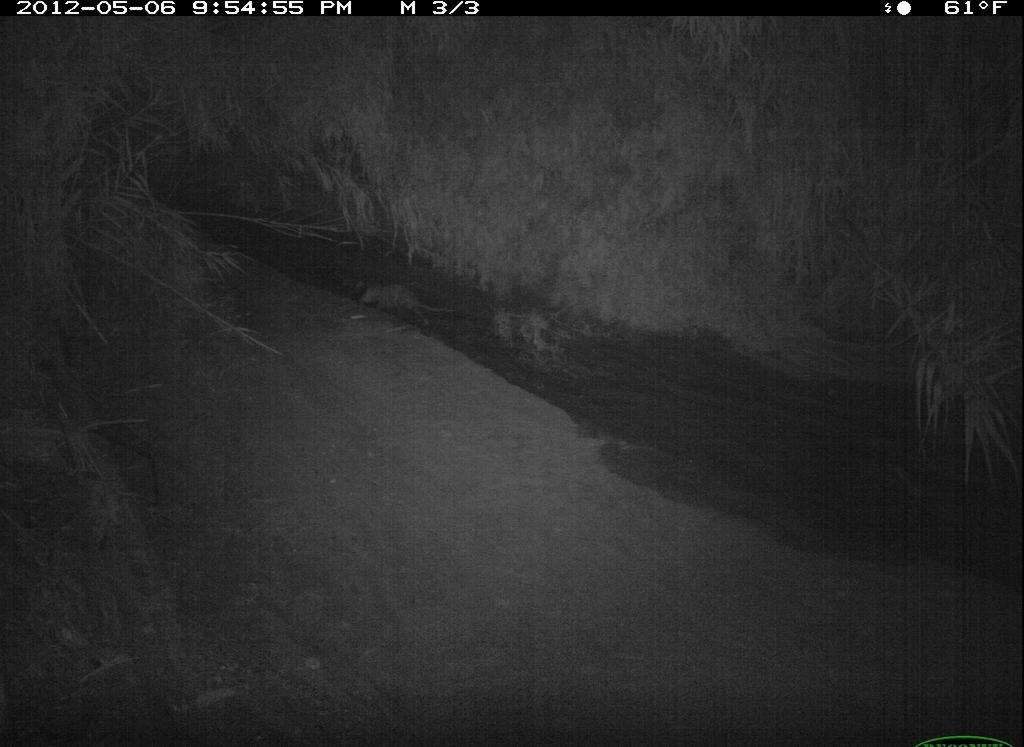opossum: (709, 553, 912, 659)
